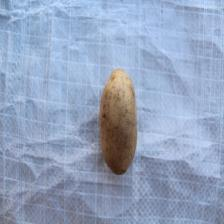Diseased-fungal potato: (98, 66, 138, 177)
